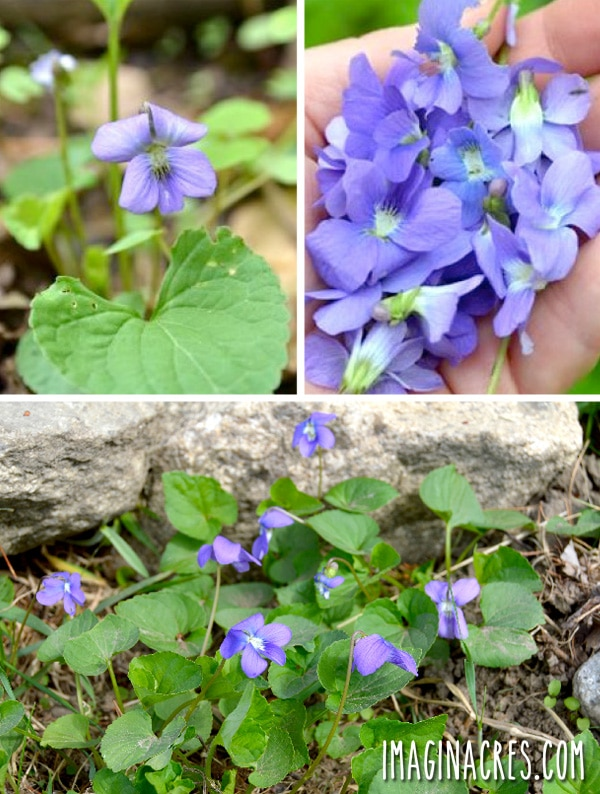violet: (328, 4, 594, 377), (87, 92, 226, 218), (339, 618, 423, 683), (212, 613, 296, 677), (414, 574, 478, 646), (192, 533, 260, 580), (33, 574, 103, 615)
